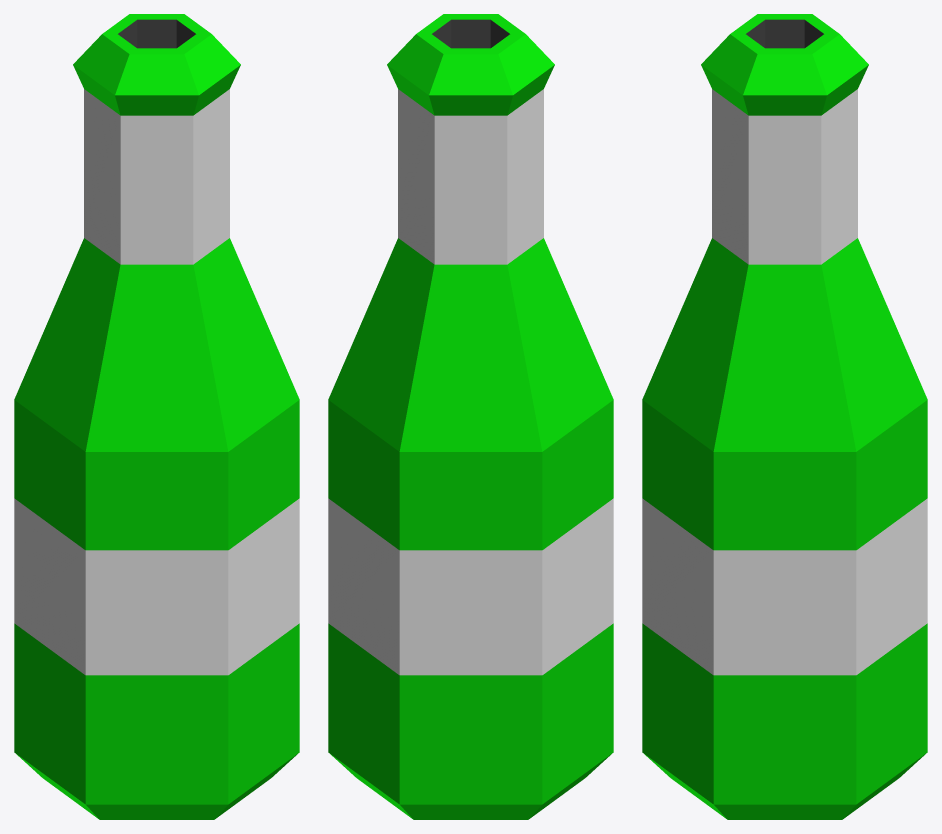
The model's file is Green_botle.fbx.
3 views of the same model, side by side, from view 1: azimuth 30°, elevation 25°; view 2: azimuth 150°, elevation 25°; view 3: azimuth 270°, elevation 25° (orthographic).
Parts seen in each view (by area): view 1: Cylinder.003; view 2: Cylinder.003; view 3: Cylinder.003.
Boxes of the visible parts, x1,y1,x2,y2 form: Cylinder.003: [14, 14, 299, 819]; Cylinder.003: [328, 14, 613, 819]; Cylinder.003: [642, 14, 927, 819].
Bounding box in the file's own units: 78.21 × 260 × 90.31.
